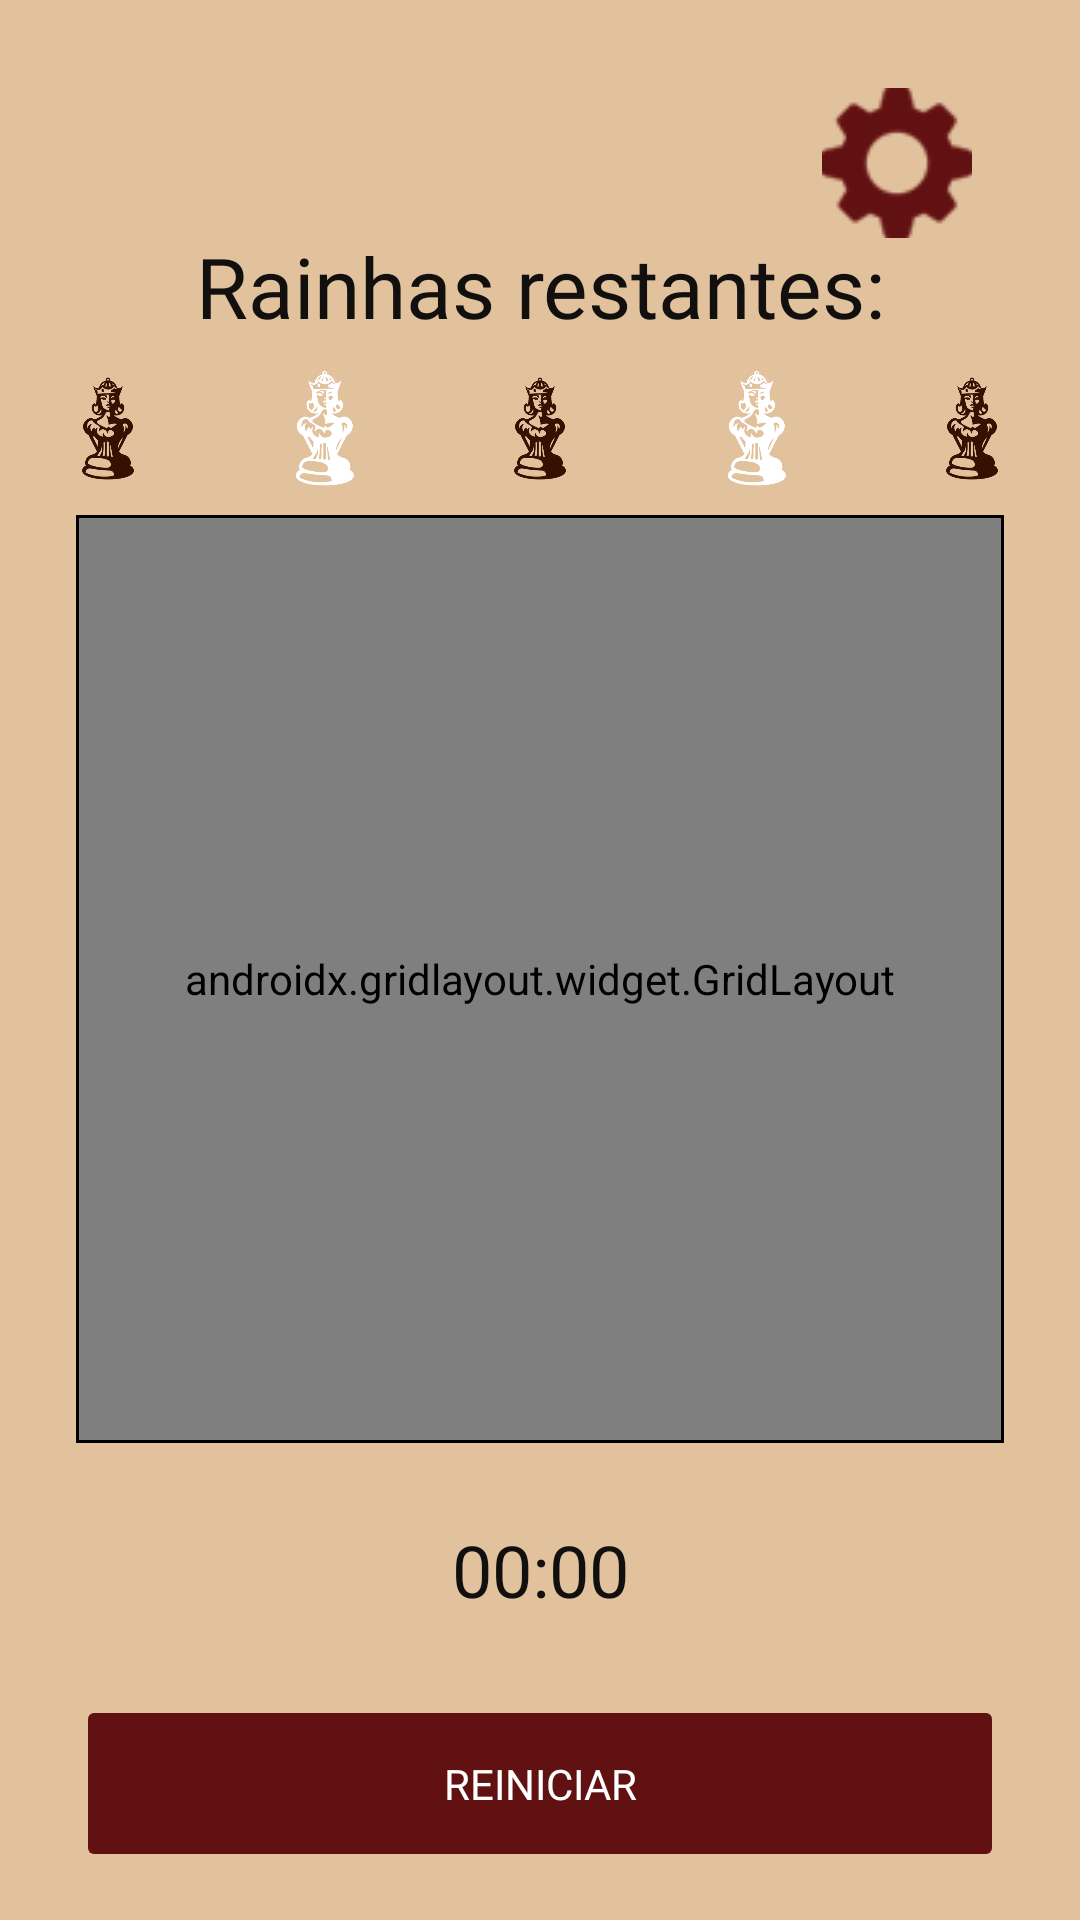

Point at icon controls on the screen. Image size 1080px x 1920px, points as (x=x, y=y).
engrenagem: (x=897, y=163)
rainha branca: (x=325, y=428), (x=757, y=428)
rainha marrom: (x=108, y=428), (x=540, y=428), (x=972, y=428)
